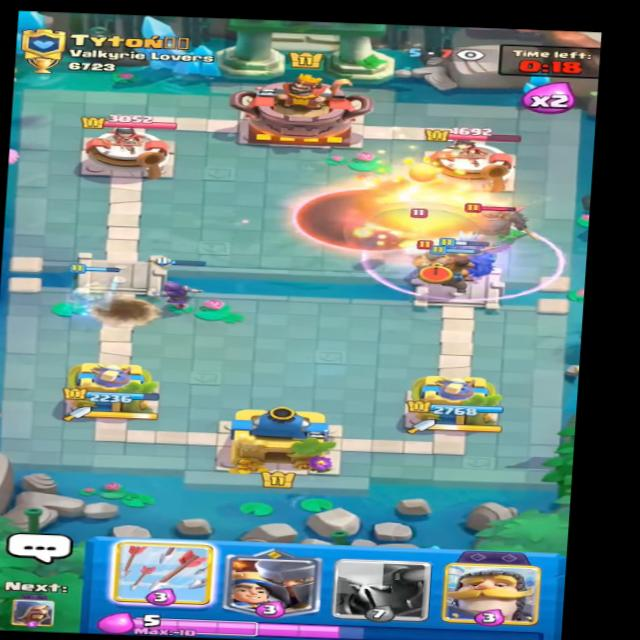knight: (398, 241, 466, 290)
pekka: (455, 187, 546, 235)
phoenix-egg: (396, 157, 442, 186)
